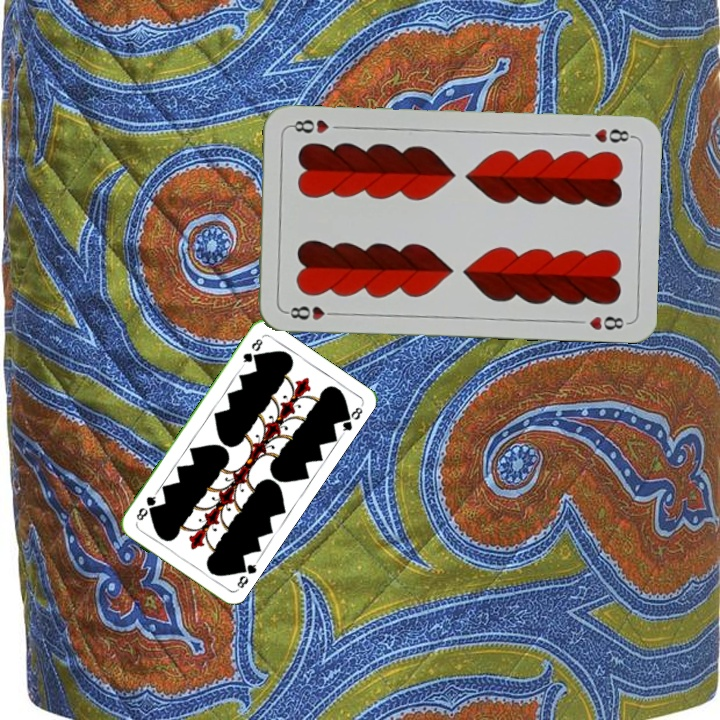G8: (232, 558, 260, 594), (238, 334, 265, 369)
H8: (282, 302, 341, 322), (590, 125, 636, 146)
